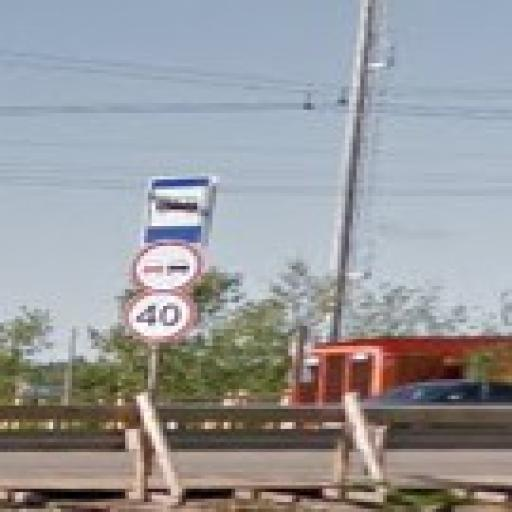traffic_sign: (145, 174, 214, 247), (126, 287, 195, 347)
